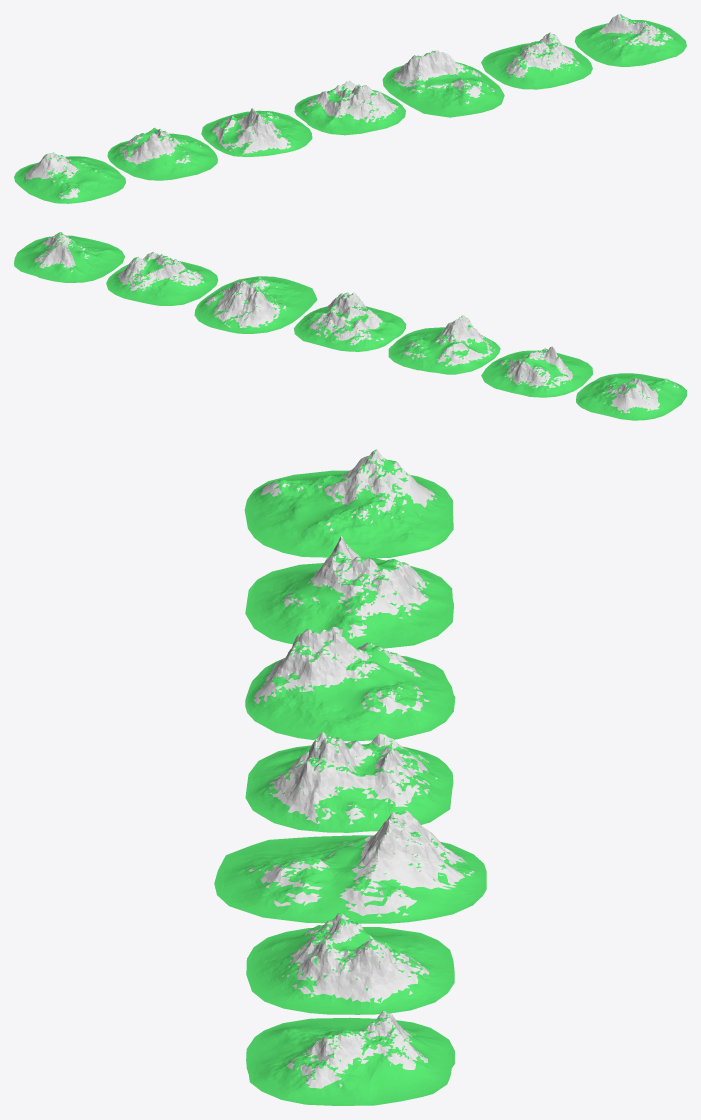
The model's file is Mountains.fbx.
3 views of the same model, one above another, from view 1: azimuth 30°, elevation 25°; view 2: azimuth 150°, elevation 25°; view 3: azimuth 270°, elevation 25° (orthographic). The views are drawn at different scales.
Visible parts, largest first — view 1: Mountain 6, Mountain 7, Mountain 5, Mountain 1, Mountain 2, Mountain 4, Mountain 3; view 2: Mountain 6, Mountain 7, Mountain 3, Mountain 5, Mountain 2, Mountain 1, Mountain 4; view 3: Mountain 6, Mountain 3, Mountain 1, Mountain 5, Mountain 4, Mountain 7, Mountain 2.
Boxes of the visible parts, x1=… form: Mountain 6: x1=382, y1=50, x2=504, y2=117; Mountain 7: x1=294, y1=80, x2=405, y2=135; Mountain 5: x1=481, y1=32, x2=592, y2=89; Mountain 1: x1=14, y1=152, x2=125, y2=203; Mountain 2: x1=107, y1=127, x2=217, y2=180; Mountain 4: x1=574, y1=14, x2=686, y2=66; Mountain 3: x1=201, y1=108, x2=312, y2=156; Mountain 6: x1=194, y1=276, x2=317, y2=333; Mountain 7: x1=294, y1=292, x2=406, y2=351; Mountain 3: x1=388, y1=315, x2=500, y2=374; Mountain 5: x1=106, y1=251, x2=218, y2=305; Mountain 2: x1=481, y1=346, x2=592, y2=397; Mountain 1: x1=576, y1=373, x2=686, y2=420; Mountain 4: x1=14, y1=232, x2=124, y2=282; Mountain 6: x1=214, y1=810, x2=486, y2=923; Mountain 3: x1=245, y1=626, x2=455, y2=741; Mountain 1: x1=244, y1=449, x2=453, y2=558; Mountain 5: x1=246, y1=913, x2=454, y2=1014; Mountain 4: x1=246, y1=1010, x2=454, y2=1105; Mountain 7: x1=245, y1=732, x2=453, y2=832; Mountain 2: x1=245, y1=536, x2=453, y2=648.
Bounding box in the file's own units: 1394 × 63.63 × 253.
